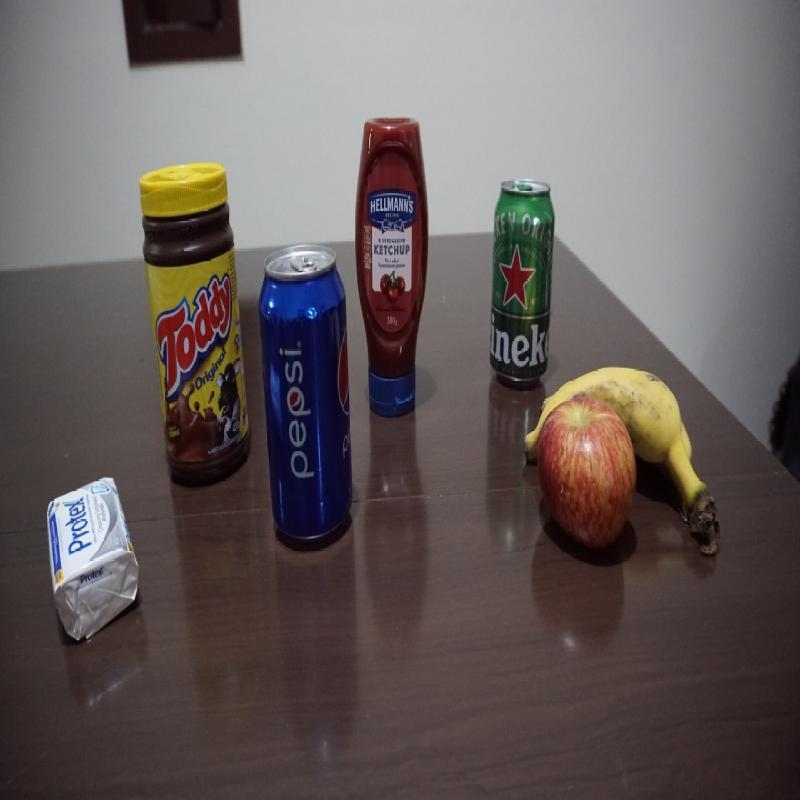Apple: (536, 396, 637, 564)
Banana: (636, 364, 720, 575)
Beer can: (489, 176, 558, 397)
Chocolate Powder: (135, 163, 252, 488)
Ketchup: (353, 114, 427, 423)
Soap: (45, 475, 142, 647)
Soda can: (256, 244, 358, 554)
